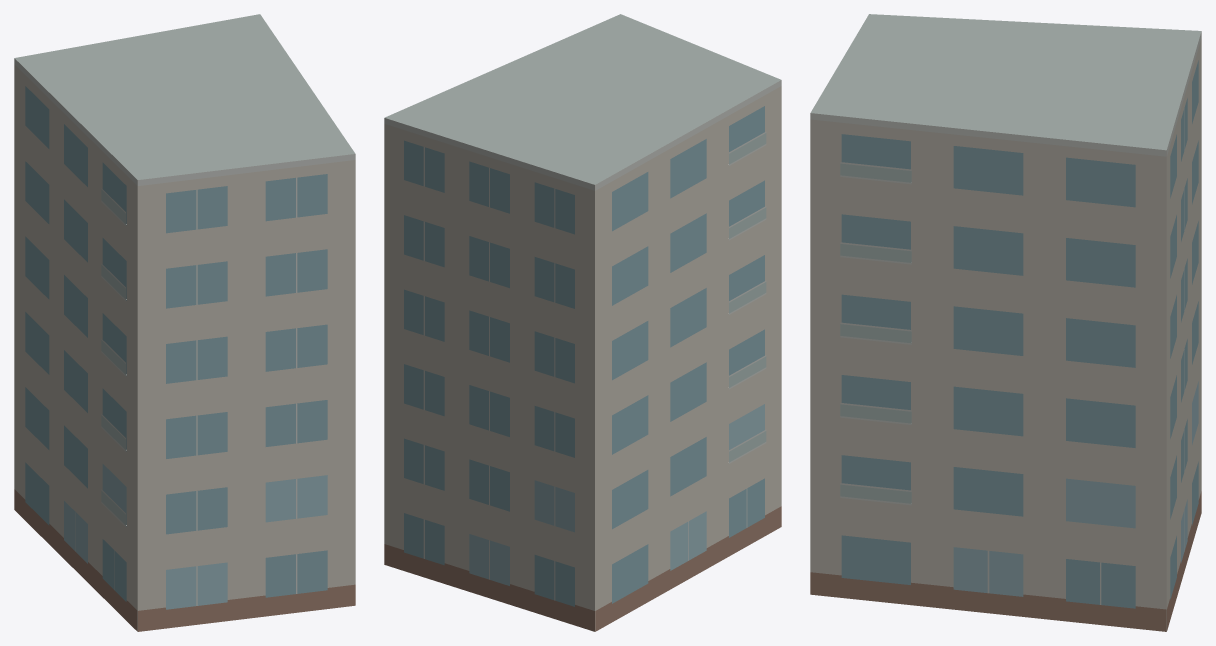
File: survey-upis-32867598.glb
3 renders of one model, left to right at view 1: azimuth 30°, elevation 25°; view 2: azimuth 150°, elevation 25°; view 3: azimuth 270°, elevation 25°, orthographic. The views are drawn at different scales.
Parts seen in each view (by area): view 1: survey-upis-32867598.tmp; view 2: survey-upis-32867598.tmp; view 3: survey-upis-32867598.tmp.
Part boxes in pixels (x1,y1,x2,y2): survey-upis-32867598.tmp: (14, 14, 355, 631); survey-upis-32867598.tmp: (384, 14, 781, 631); survey-upis-32867598.tmp: (810, 14, 1201, 631).
Size of the model in its own units: 11.12 by 18.3 by 13.49.
